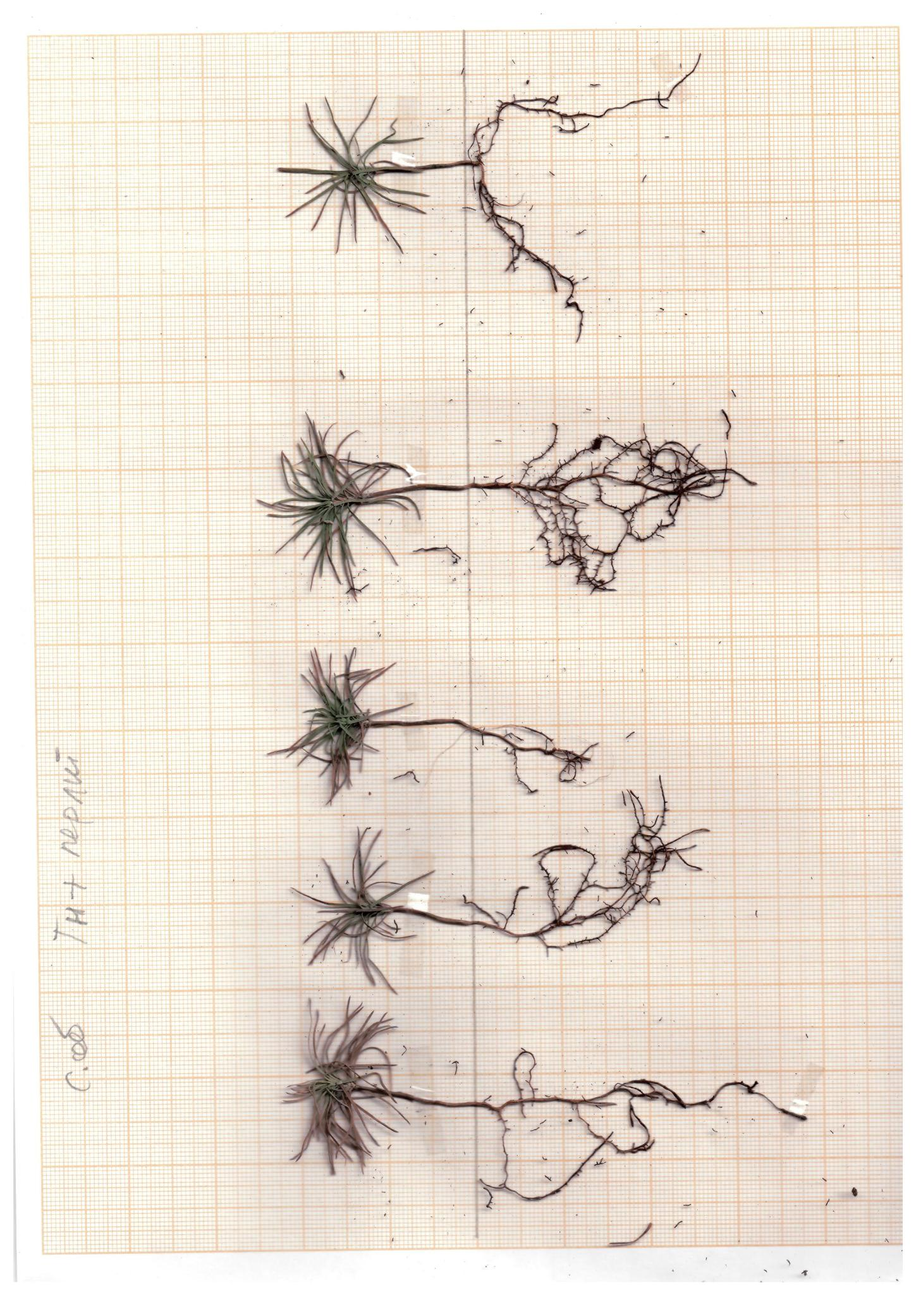Seeding: (276, 45, 713, 355), (286, 981, 812, 1221), (251, 401, 764, 602), (290, 787, 711, 1001), (264, 638, 602, 813)
